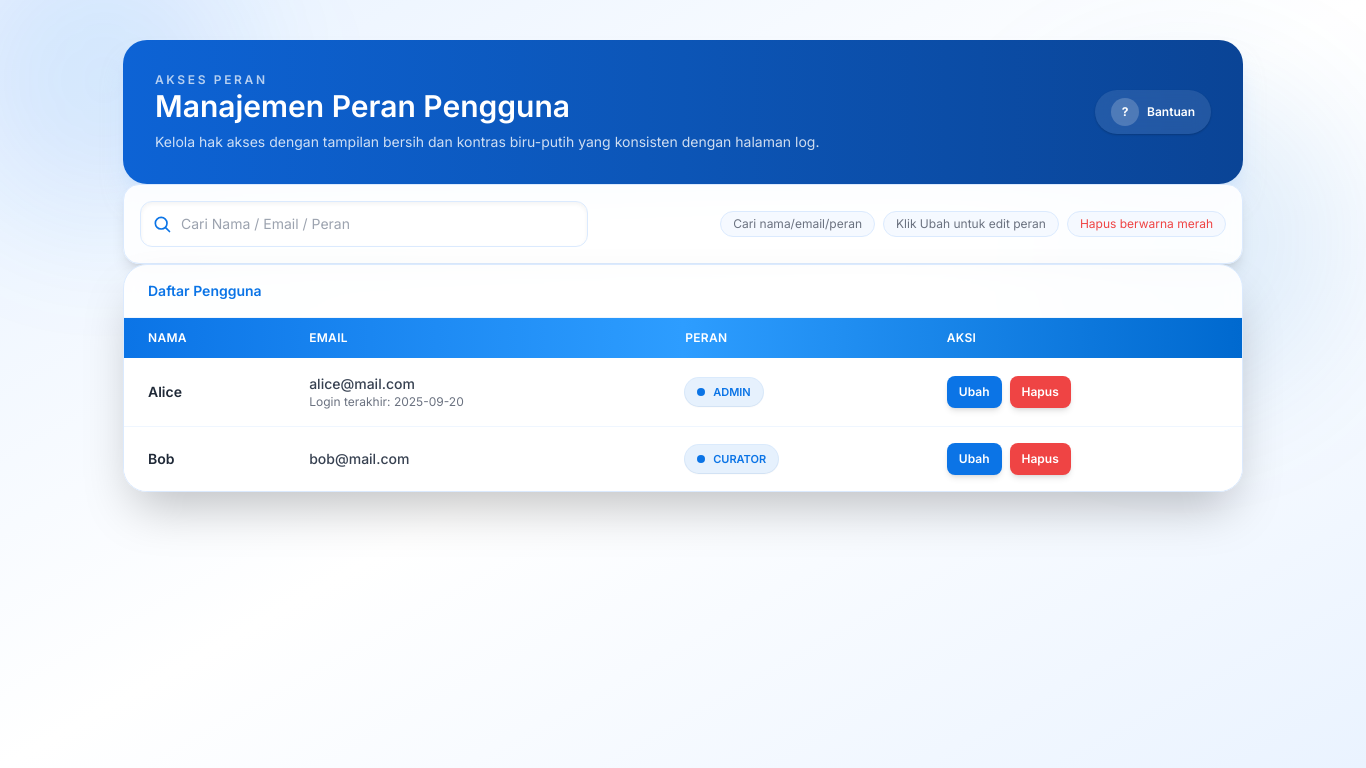
Test: confirm modal cancel closes modal without deleting
The width and height of the screenshot is (1366, 768).
expect the text "Bob" is shown: met, box [148,450,174,467]
Note: open confirm modal
Click the button "Hapus" in the row of "bob@mail.com": click(1040, 459) [1010,443,1071,475]
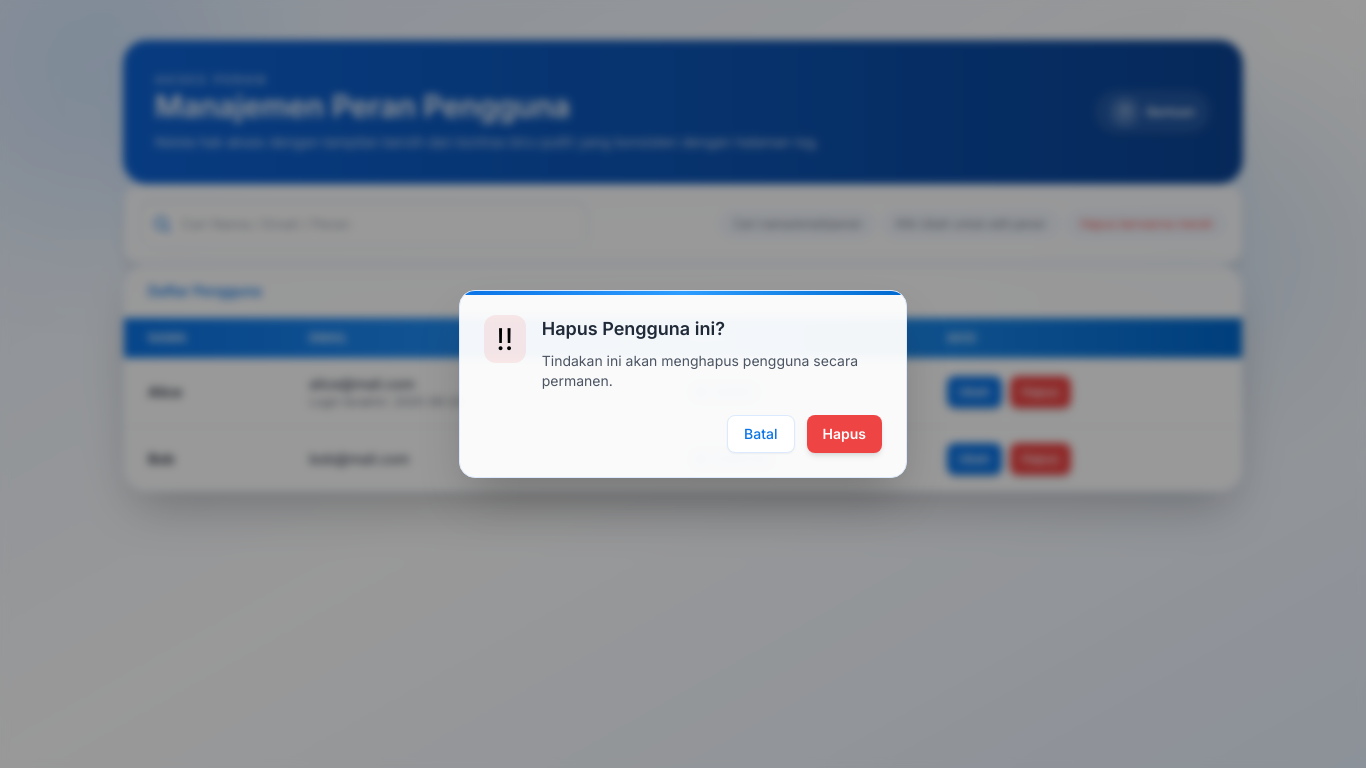
expect the heading "Hapus Pengguna ini?" is shown: met, box [542,318,725,339]
Note: click Batal to trigger onCancel branch
Click the button "Batal": click(761, 434) [727,415,794,453]
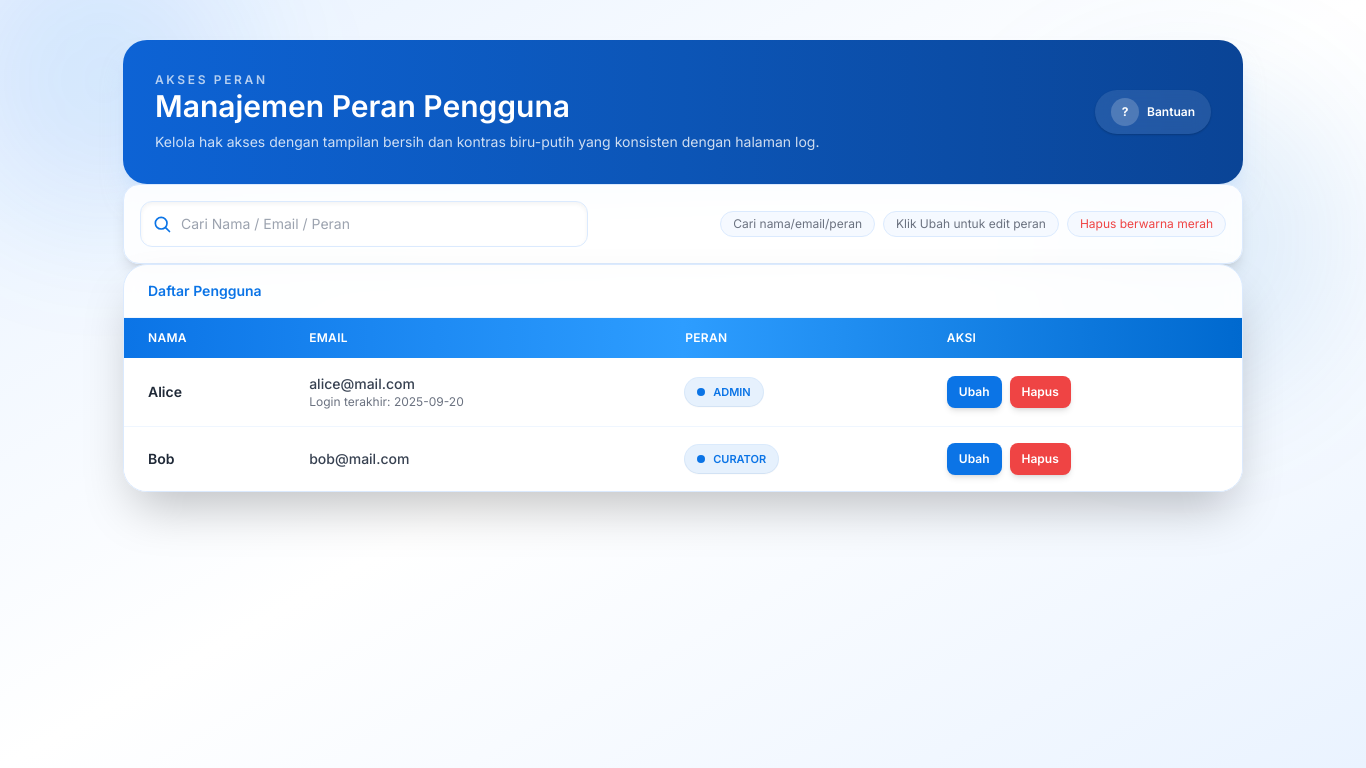
expect the heading "Hapus Pengguna ini?" is gone: met
